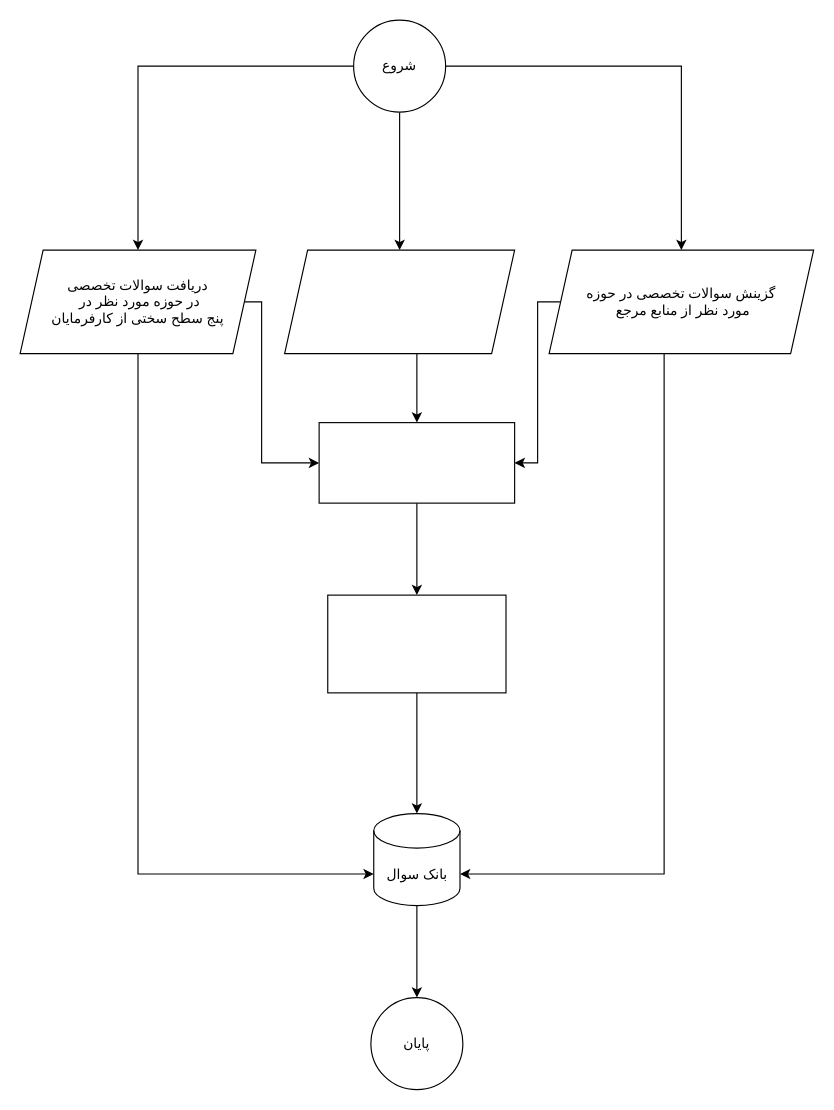
Some shapes in this 834 by 1110 pixel diagram are drawn without their labels. Here are the shapes that lost their labels. From the top down, the box of each, then its label:
(283, 249, 515, 354): دریافت محتوای منابع تخصصی در حوزه مورد نظر
(318, 421, 515, 503): آموزش مدل GPT3 (مدل در دسترس عموم) با محتوای تهیه شده
(327, 594, 506, 693): درخواست از مدل آماده شده GPT3 جهت تهیه یک سری سوال در سطوح سختی مختلف
